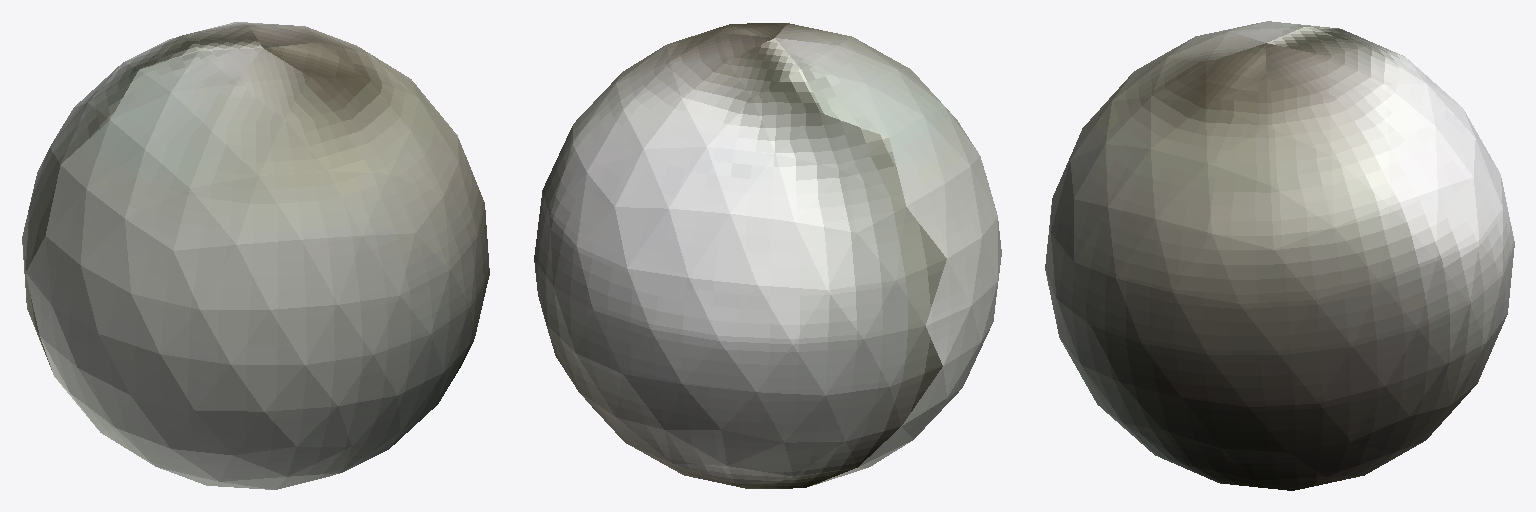
3 views of the same model, side by side, from view 1: azimuth 30°, elevation 25°; view 2: azimuth 150°, elevation 25°; view 3: azimuth 270°, elevation 25° (orthographic).
Parts seen in each view (by area): view 1: canica3; view 2: canica3; view 3: canica3.
Part boxes in pixels (x1,y1,x2,y2): canica3: (22,22,489,489); canica3: (534,23,1001,488); canica3: (1045,21,1514,490).
Size of the model in its own units: 0.2893 by 0.2889 by 0.2889.
1 materials, 1 textured.